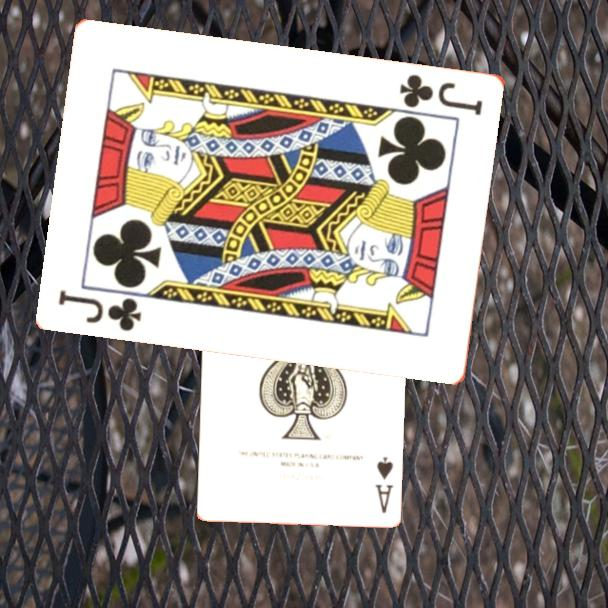c11: (55, 285, 145, 334), (397, 70, 486, 118)
s01: (371, 453, 395, 515)
